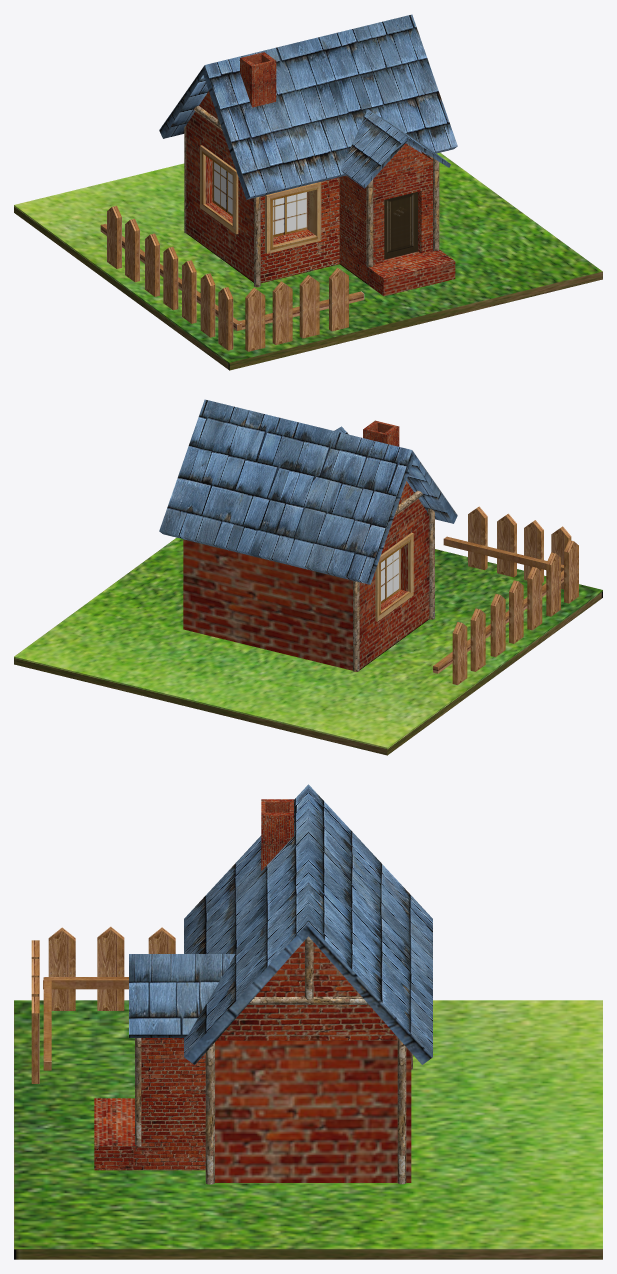
The model's file is src.glb.
3 views of the same model, one above another, from view 1: azimuth 30°, elevation 25°; view 2: azimuth 150°, elevation 25°; view 3: azimuth 270°, elevation 25° (orthographic). The views are drawn at different scales.
Visible parts, largest first — view 1: Box001; view 2: Box001; view 3: Box001.
Boxes of the visible parts, x1=… form: Box001: x1=14, y1=14, x2=602, y2=370; Box001: x1=14, y1=399, x2=602, y2=755; Box001: x1=14, y1=784, x2=602, y2=1259.
Size of the model in its own units: 750 by 403 by 750.
Materials: 1 (1 with a texture image).
